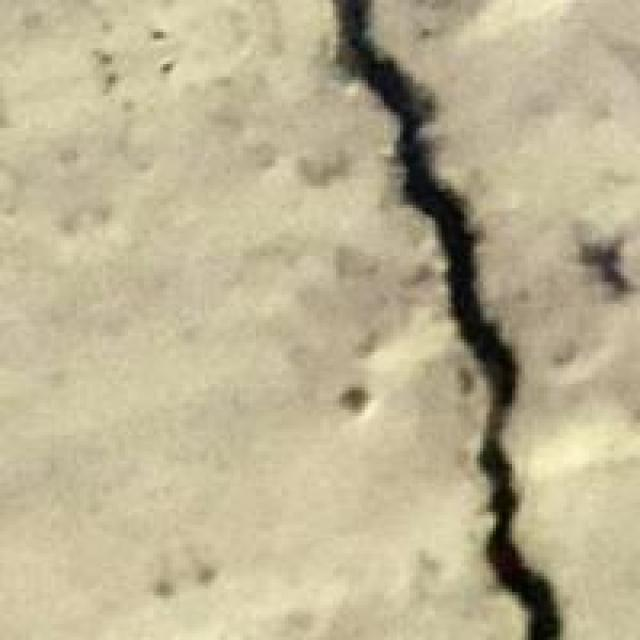crack: (294, 0, 557, 637)
